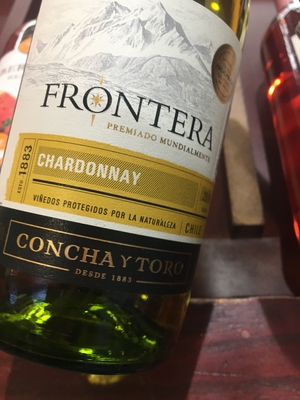frontera chardonnay: (12, 1, 246, 389)
